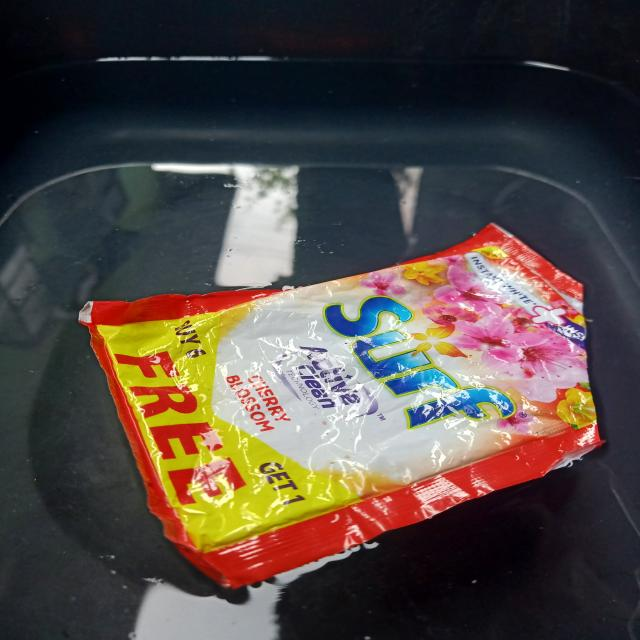Plastic Wrapper: (60, 209, 623, 602)
